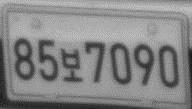0: (109, 42, 132, 85), (158, 45, 180, 87)
5: (37, 38, 58, 82)
7: (83, 41, 106, 83)
8: (13, 37, 36, 81)
9: (133, 42, 155, 86)
보: (58, 48, 83, 82)
